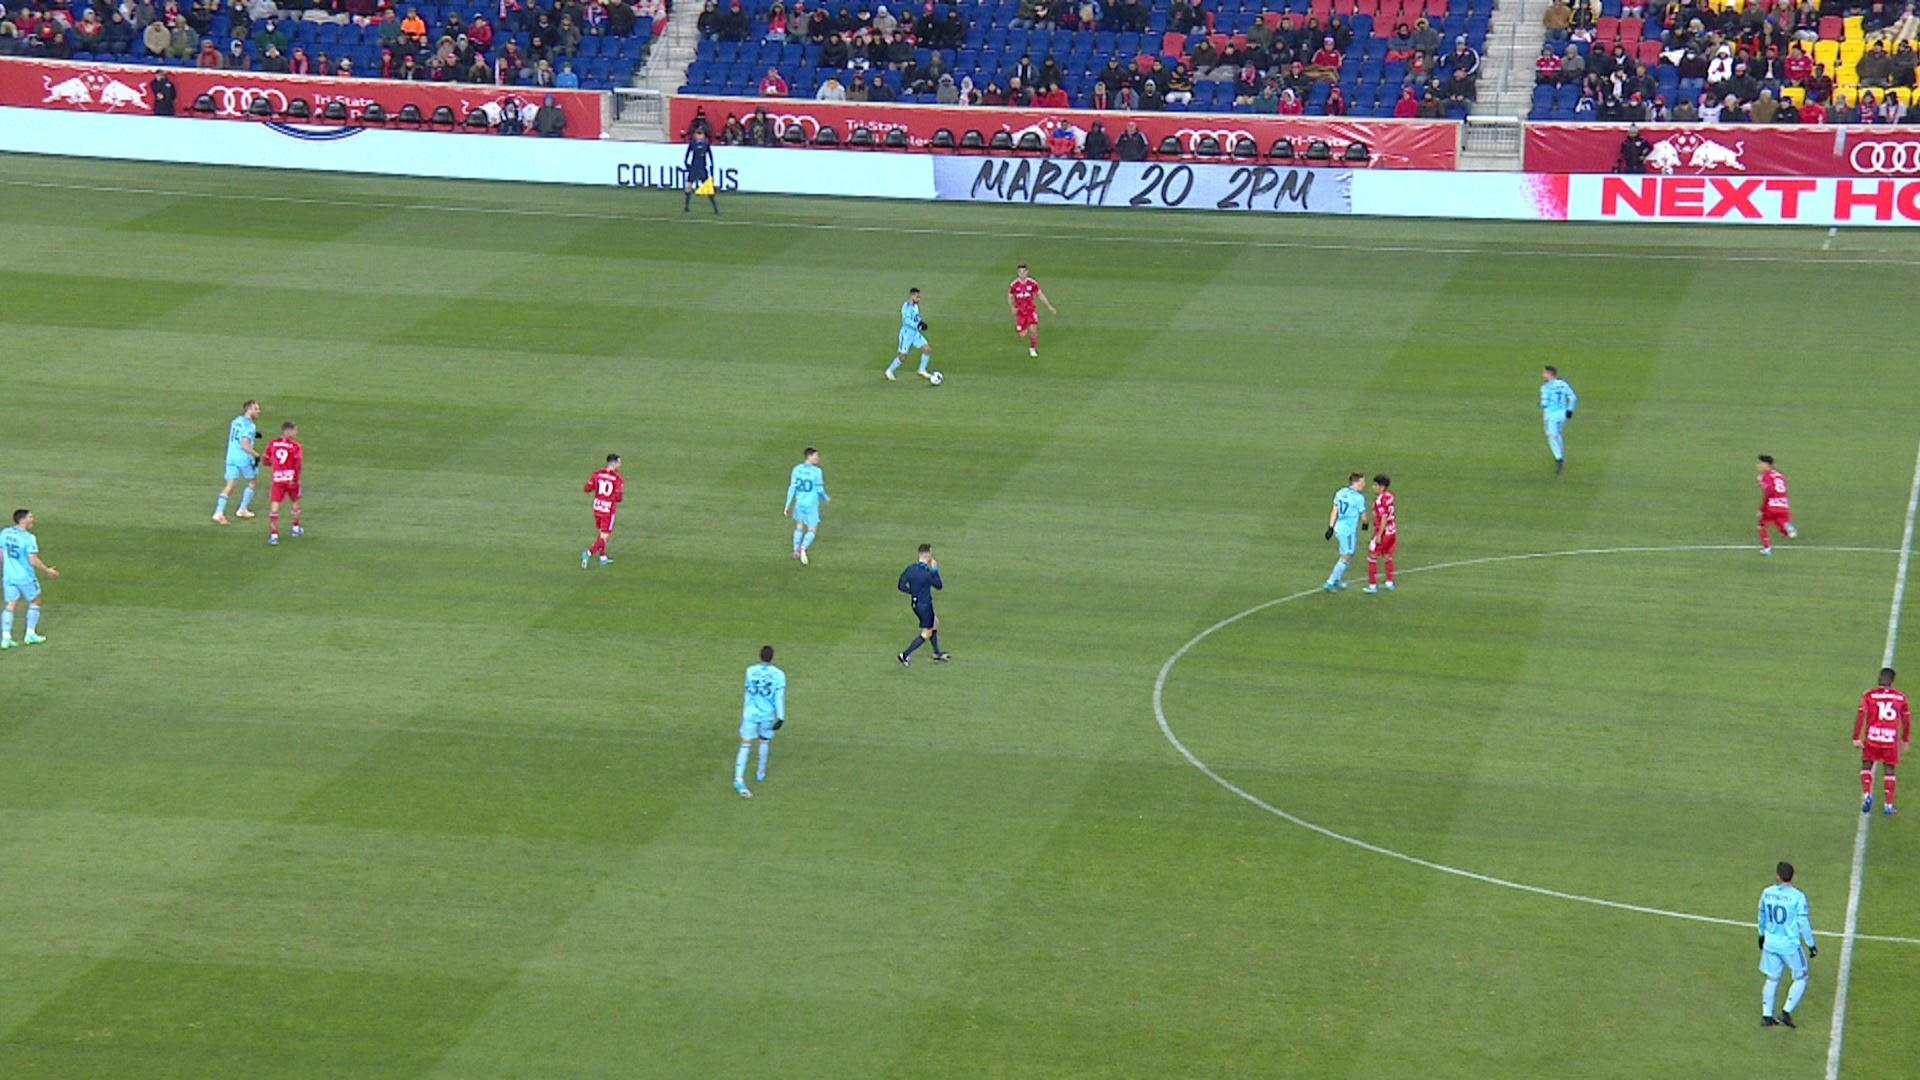football: (930, 372, 944, 385)
